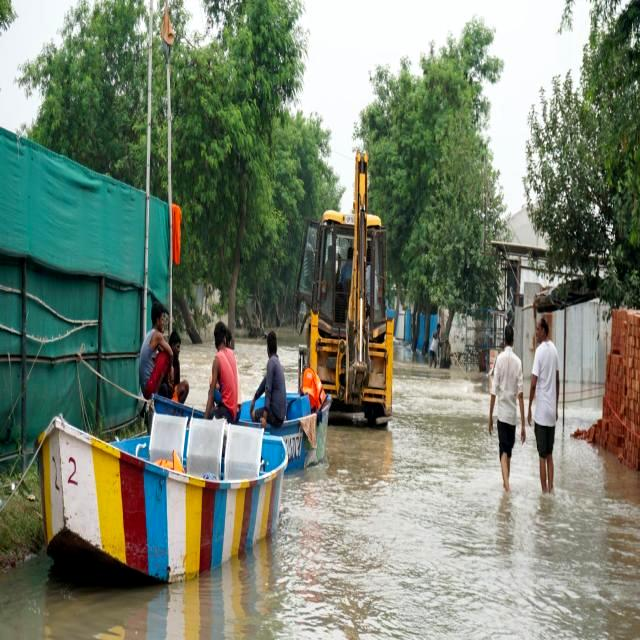civilian: (467, 323, 530, 490), (530, 318, 568, 496), (247, 326, 302, 428), (201, 317, 243, 420), (137, 303, 173, 408), (164, 327, 199, 412), (426, 324, 443, 376)
